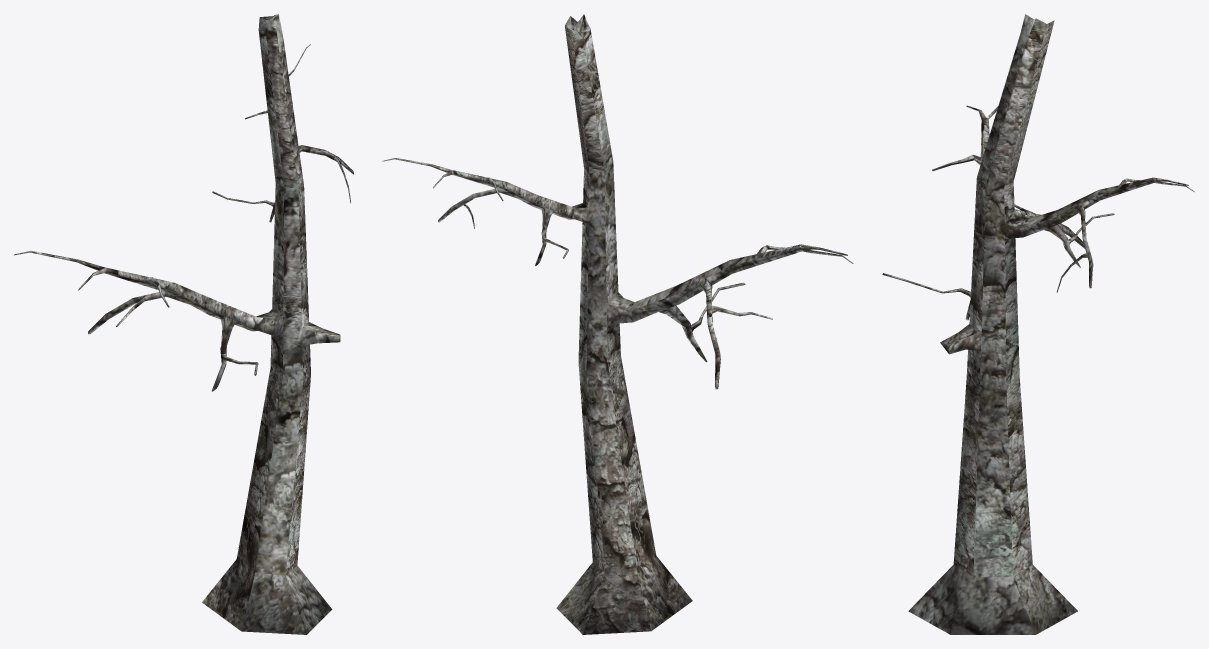
Rendered from deadtree3.fbx.
3 renders of one model, left to right at view 1: azimuth 30°, elevation 25°; view 2: azimuth 150°, elevation 25°; view 3: azimuth 270°, elevation 25°, orthographic. The views are drawn at different scales.
Visible parts, largest first — view 1: Cube; view 2: Cube; view 3: Cube.
Part boxes in pixels (left/top/right/bottom): Cube: left=14, top=14, right=353, bottom=634; Cube: left=382, top=14, right=853, bottom=634; Cube: left=882, top=14, right=1194, bottom=634.
Size of the model in its own units: 470 by 685 by 318.
